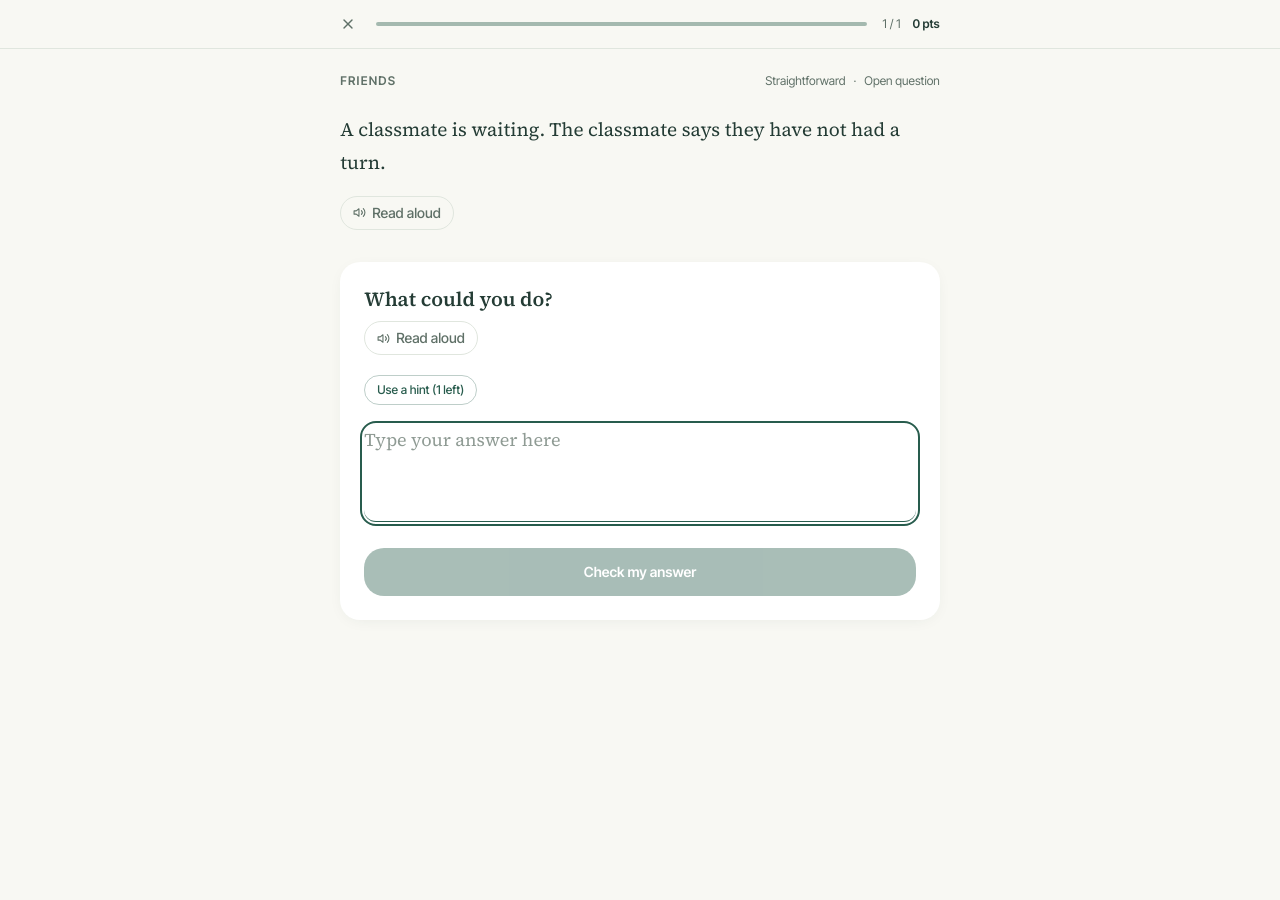
Test: leaves failed typed evaluation unscored and allows retry without recording an attempt
Type "Ask if the classmate wants a turn." into the text box with placeholder "Type your answer here" at (640, 473), box [364,425,916,522]
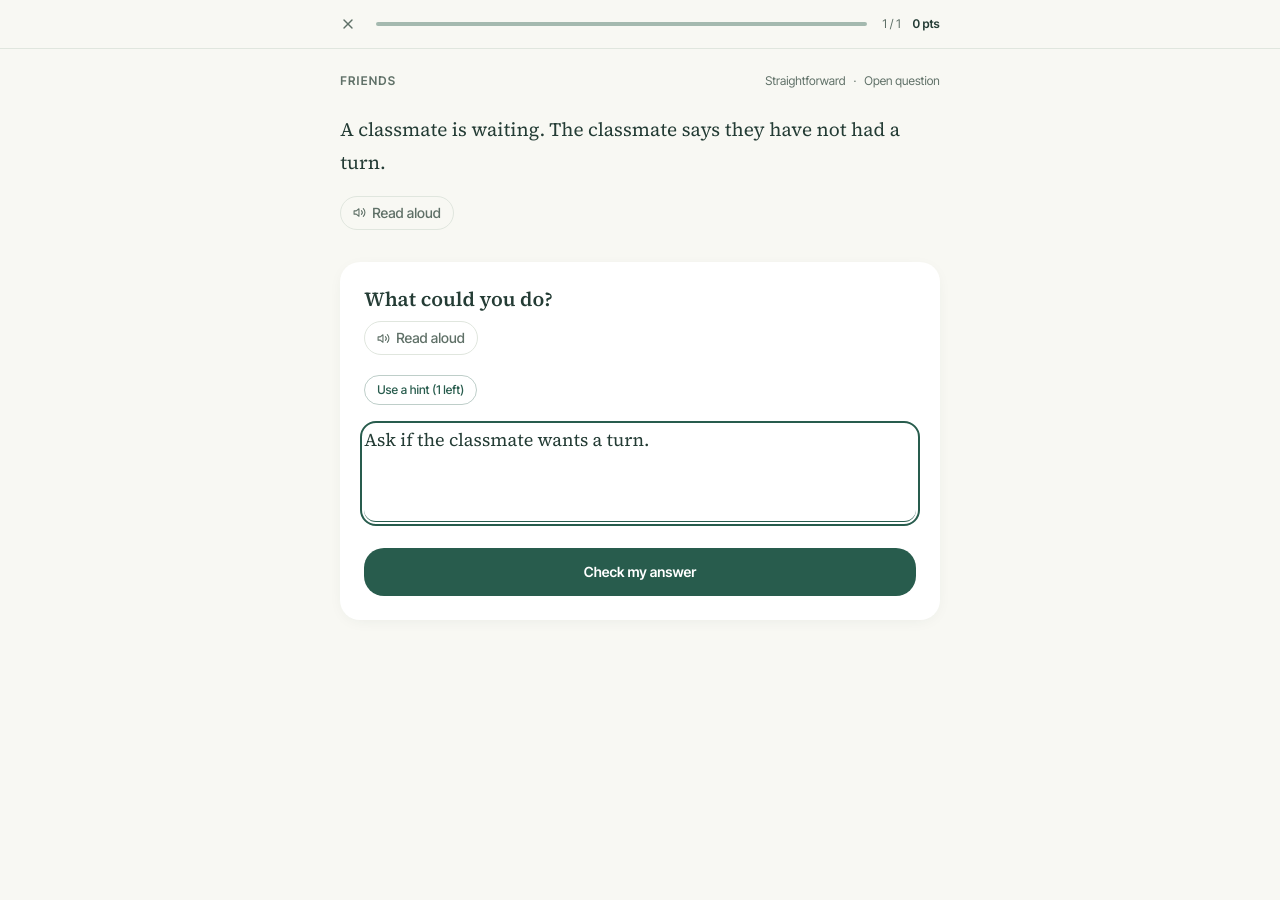
Click the button "Check my answer" at (640, 572), box [364,548,916,596]
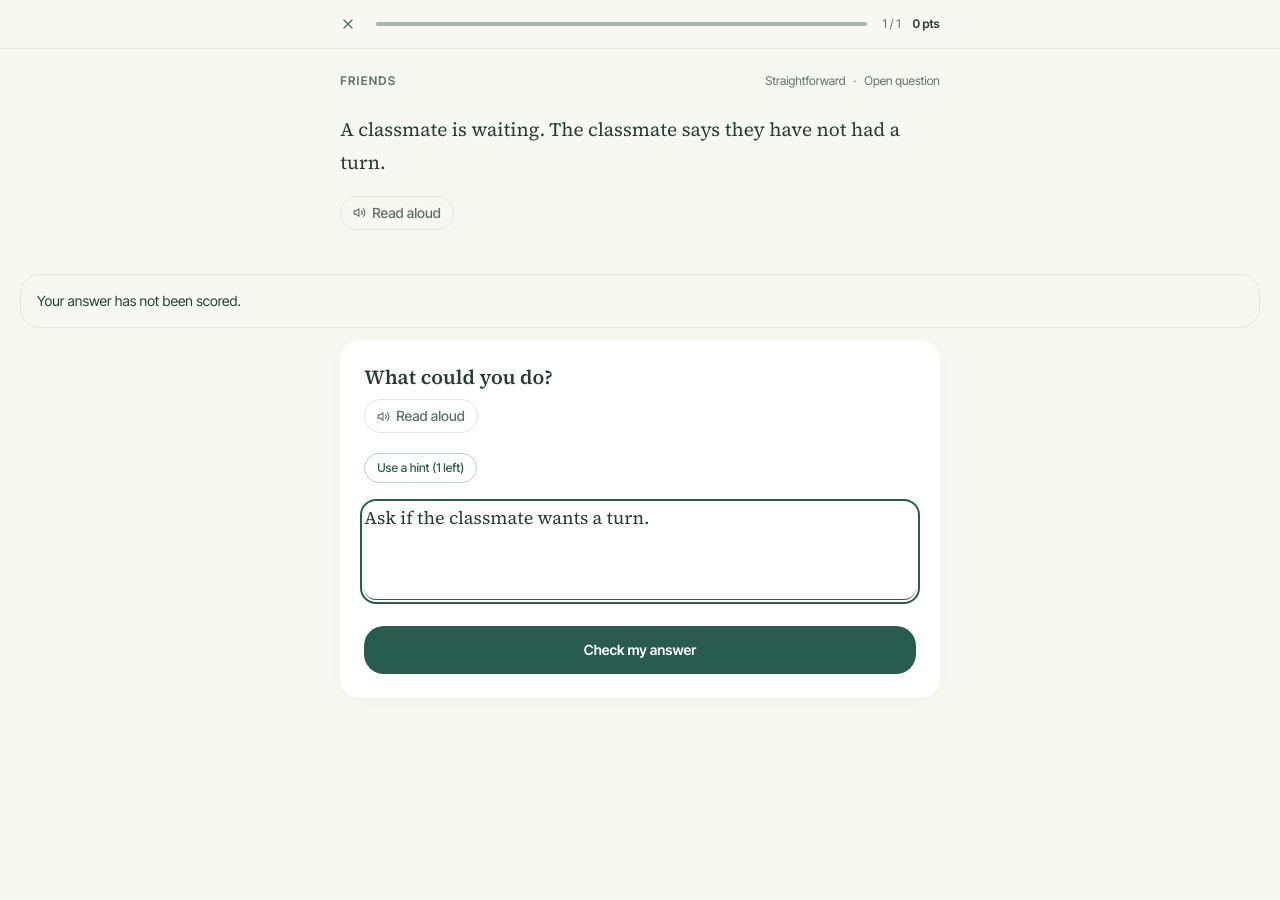
Result: the message shows "has not been scored" at [37,292,241,308]
Click the button "Check my answer" at (640, 650), box [364,626,916,674]
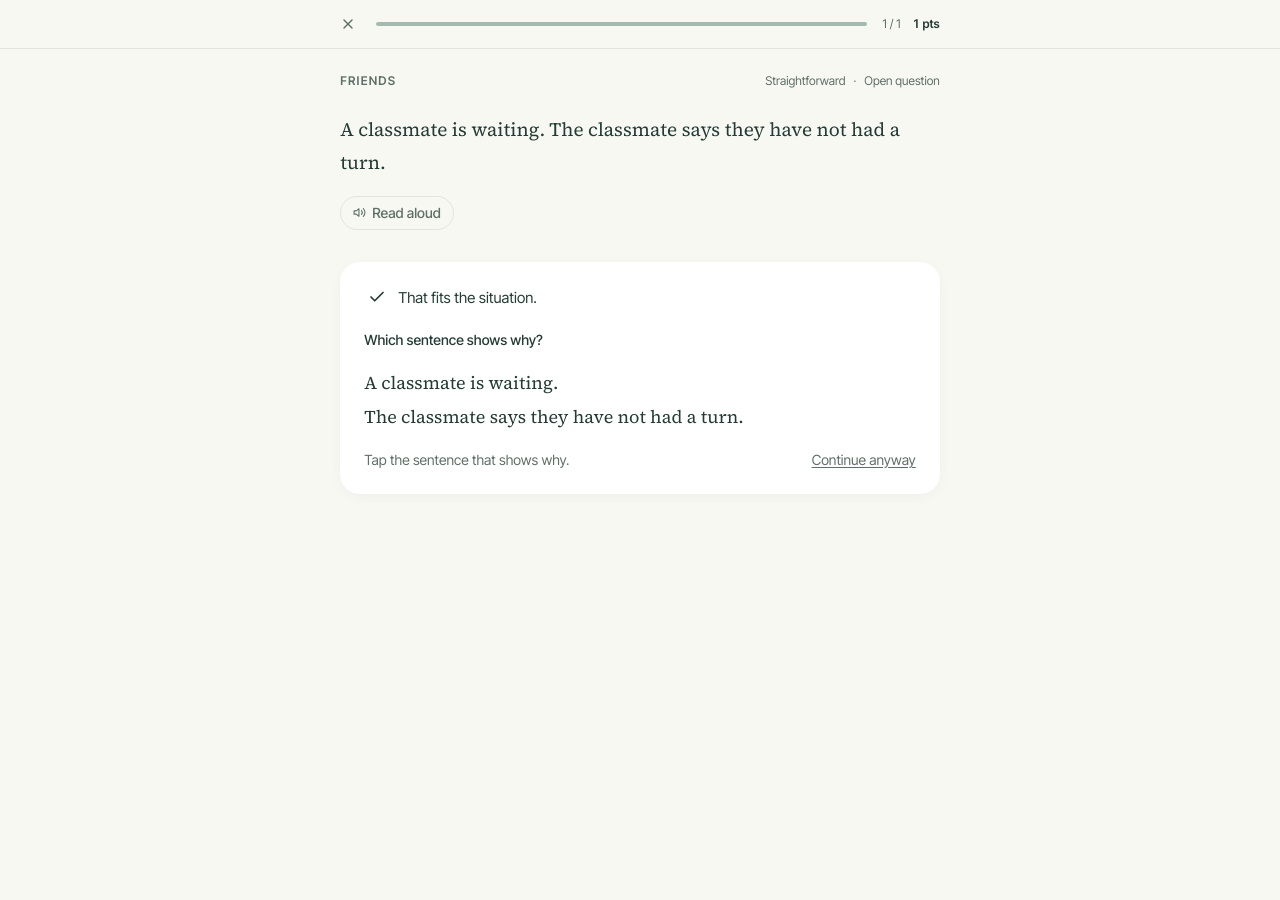
Result: the message "Your answer has not been scored." is gone
